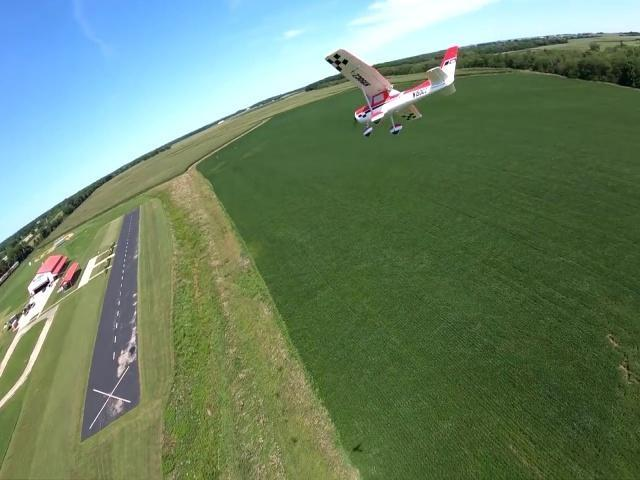Airplane: (325, 46, 457, 137)
